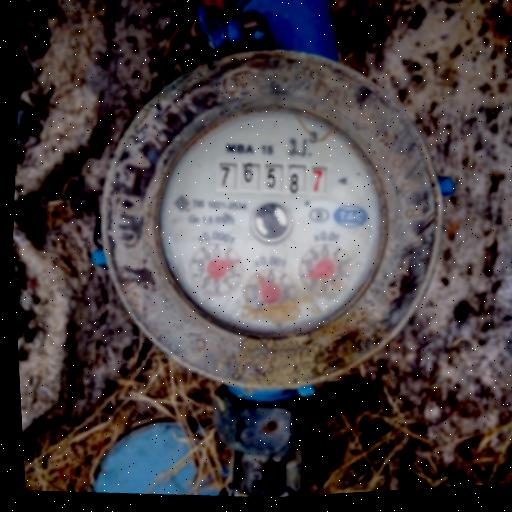5: (263, 163, 282, 189)
6: (241, 164, 262, 190)
7: (217, 164, 238, 190), (311, 166, 329, 192)
8: (287, 165, 308, 192)
border_water_meter_number: (208, 151, 337, 205)
